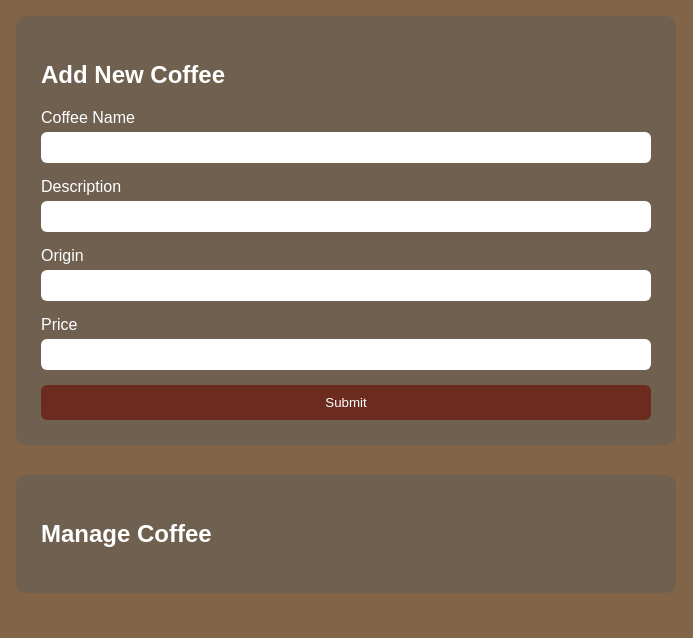
Test case: shows an error when the form is empty
This screenshot has width=693, height=638.
Click the button "Submit": (346, 402) [41,385,651,420]
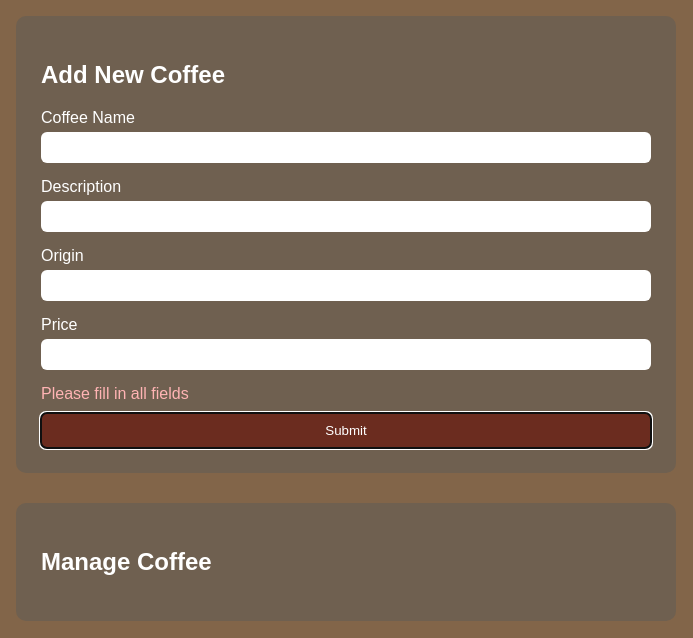
Now the text "Please fill in all fields" is shown, box [41,385,189,402]
